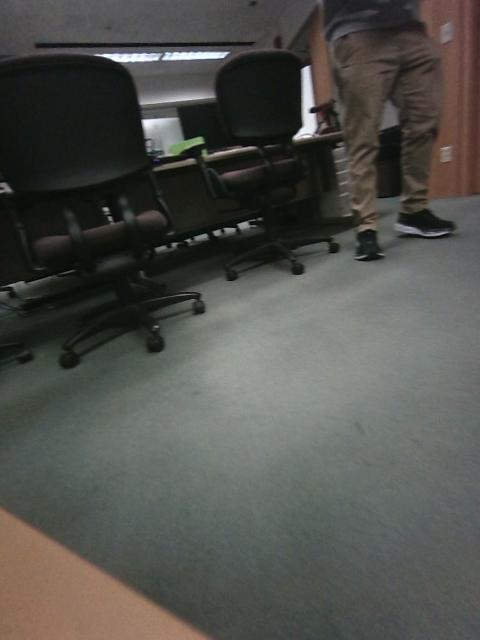block: (327, 358, 387, 433)
